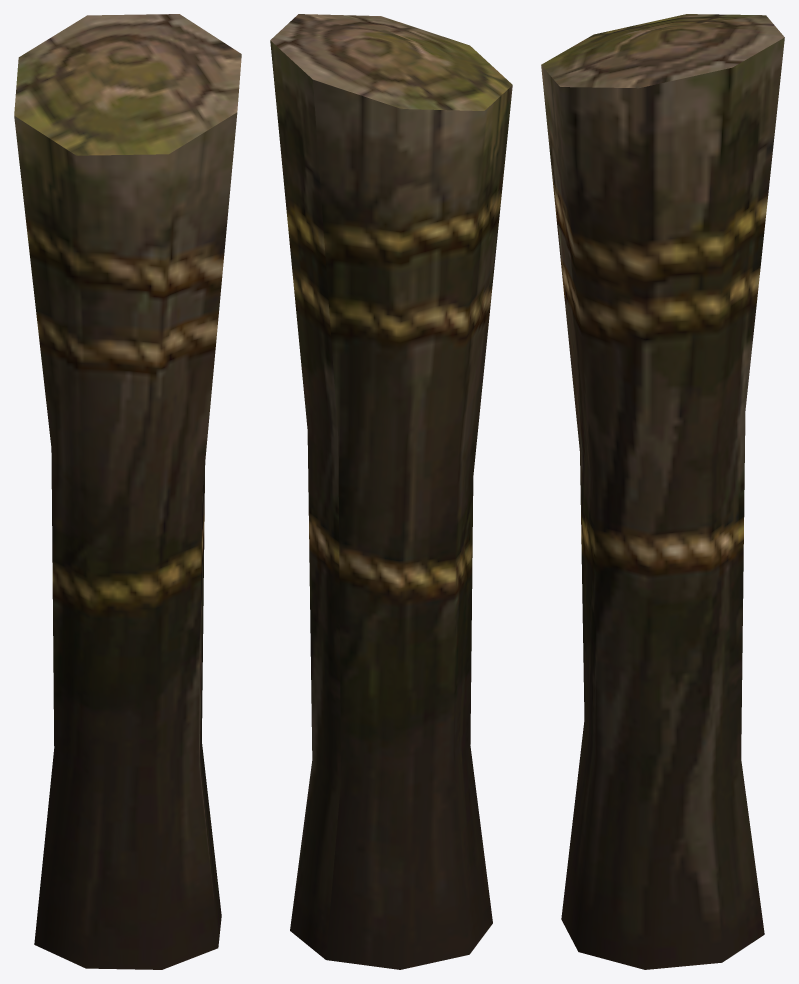
The model's file is lumina_object_fencesmall01_01.FBX.
The picture shows the model from 3 angles, left to right: view 1: azimuth 30°, elevation 25°; view 2: azimuth 150°, elevation 25°; view 3: azimuth 270°, elevation 25°; orthographic projection. The views are drawn at different scales.
Visible parts, largest first — view 1: lumina_object_fencesmall01_01; view 2: lumina_object_fencesmall01_01; view 3: lumina_object_fencesmall01_01.
Part boxes in pixels (x1,y1,x2,y2): lumina_object_fencesmall01_01: [14, 14, 241, 969]; lumina_object_fencesmall01_01: [270, 14, 512, 969]; lumina_object_fencesmall01_01: [541, 14, 784, 969].
Size of the model in its own units: 0.3789 by 1.54 by 0.3772.
